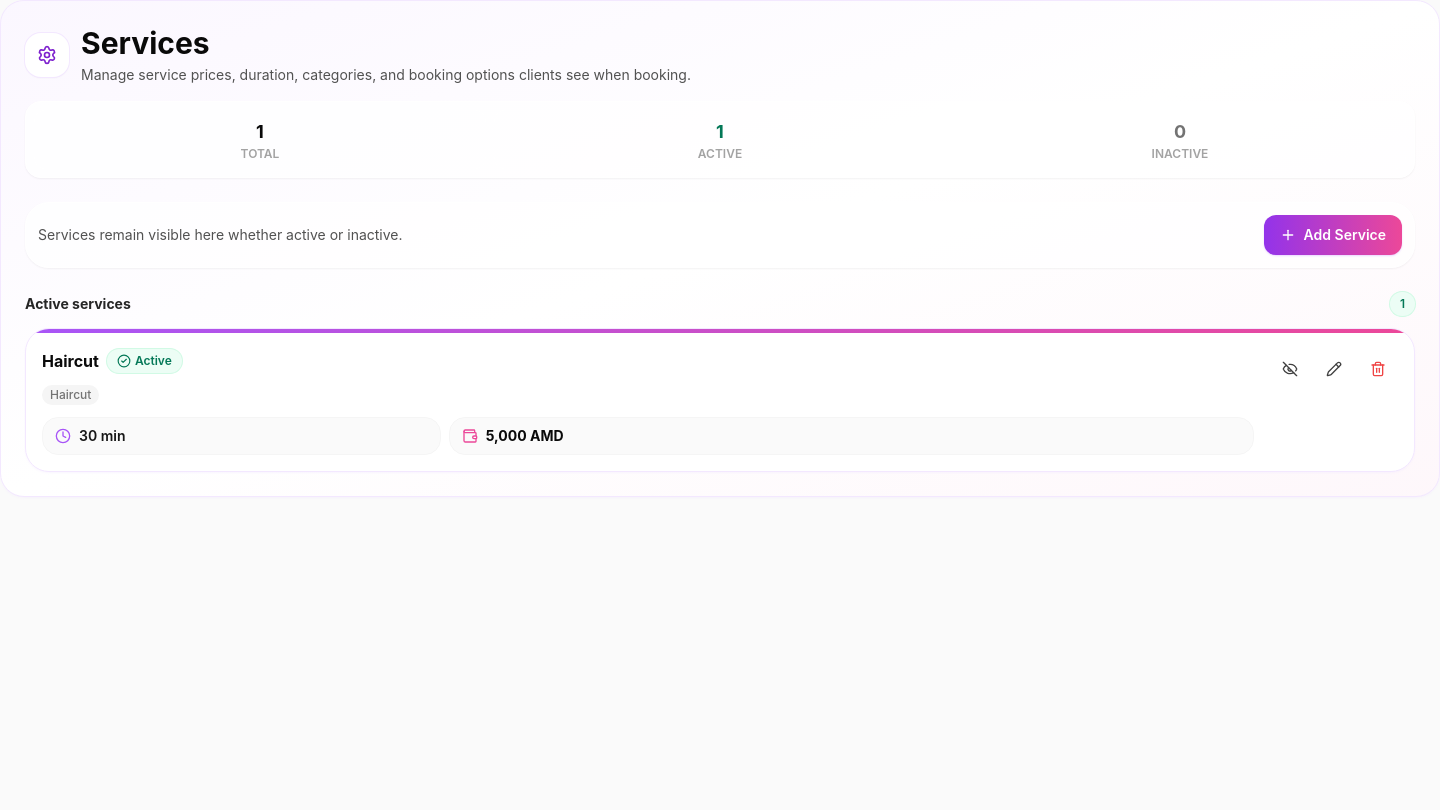
Test: ServicesManager › retains failed delete confirmation and removes the service only after a successful retry
Click the button titled "Delete": (1378, 369) left=1358, top=349, right=1398, bottom=389
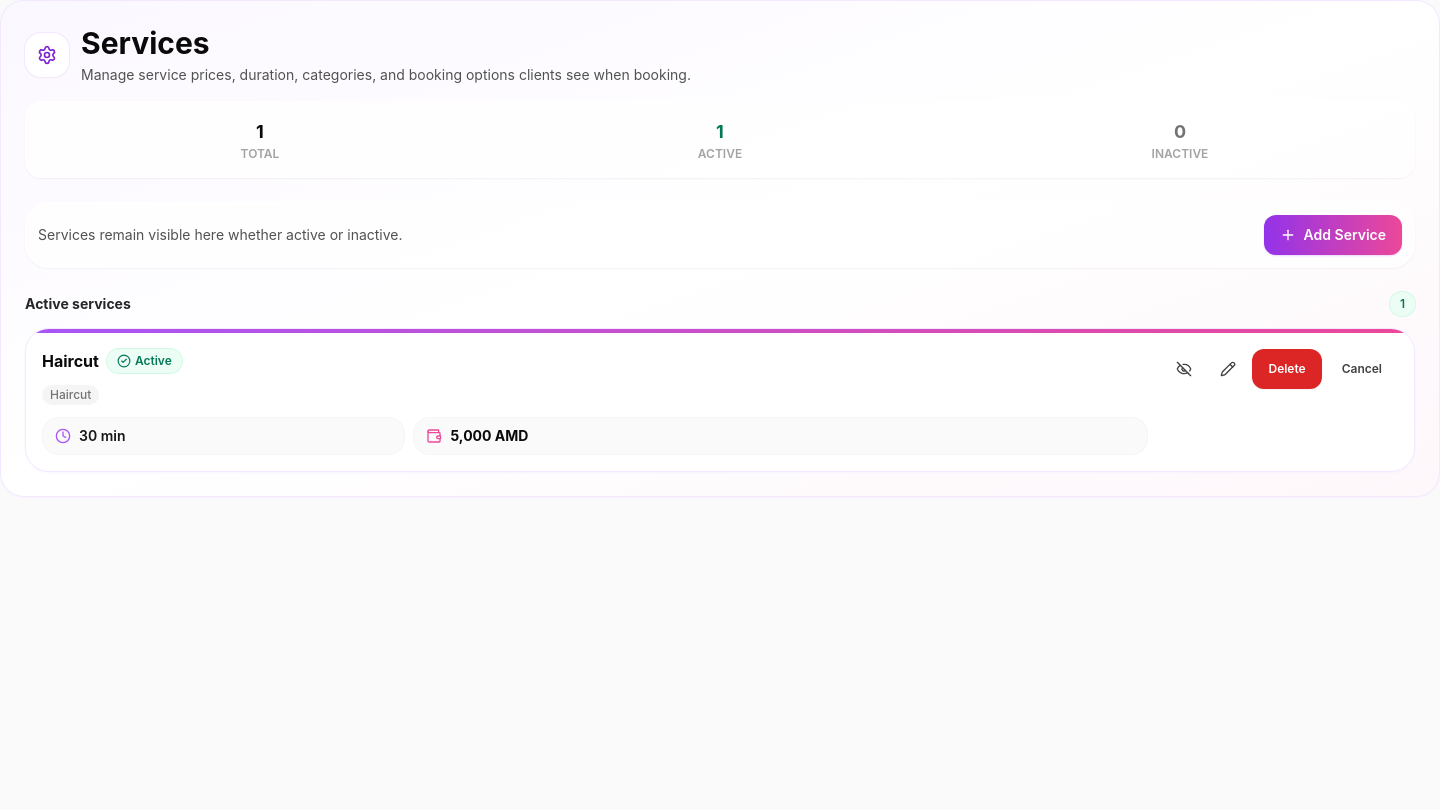
Click the button "Delete": (1287, 369) left=1252, top=349, right=1322, bottom=389
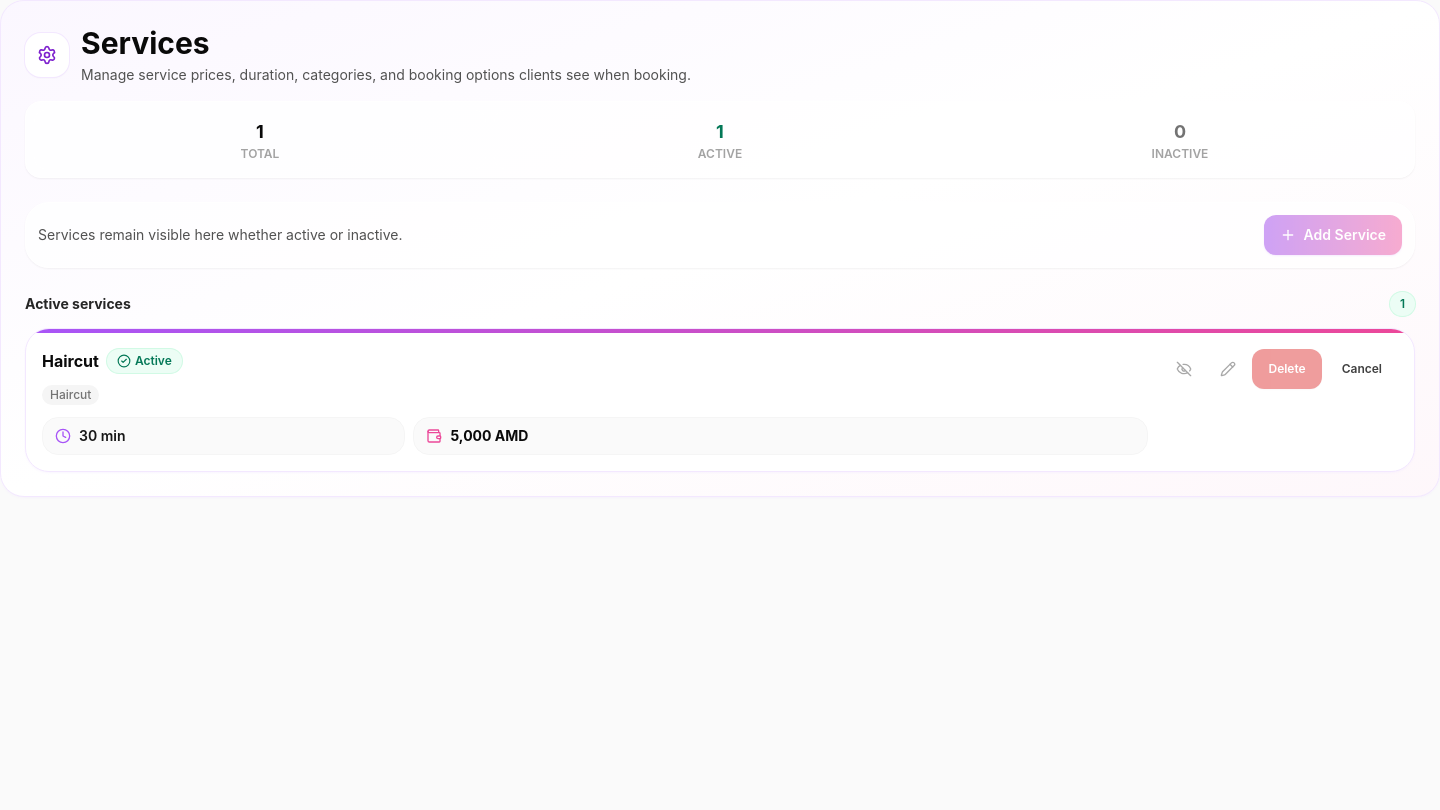
Click the button "Delete": (1287, 369) left=1252, top=349, right=1322, bottom=389
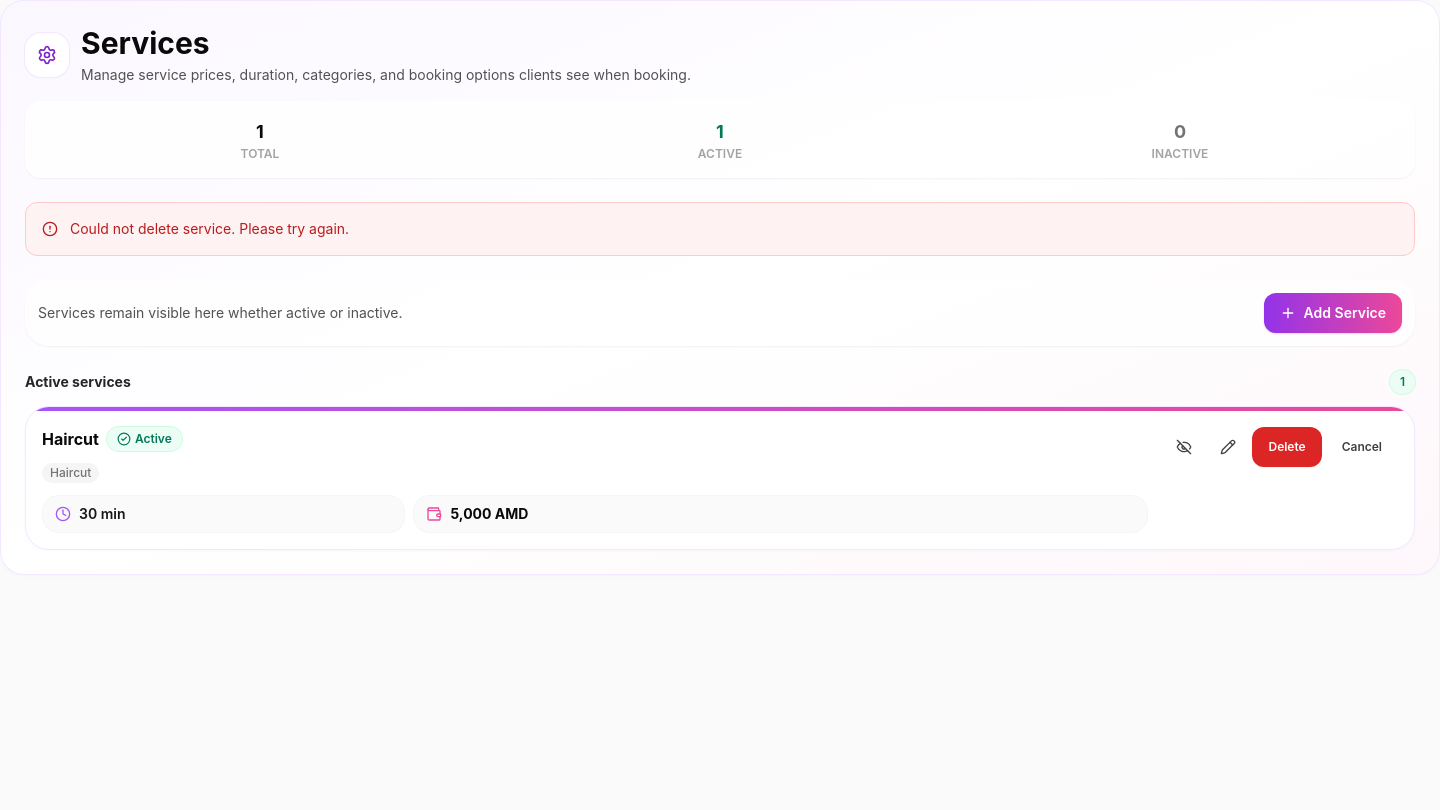
Now the text "Could not delete service. Please try again." is shown, box left=70, top=219, right=349, bottom=239
Now the button "Delete" is enabled
Now the button titled "Edit" is enabled, box left=1208, top=427, right=1248, bottom=467
Click the button "Delete": (1287, 447) left=1252, top=427, right=1322, bottom=467
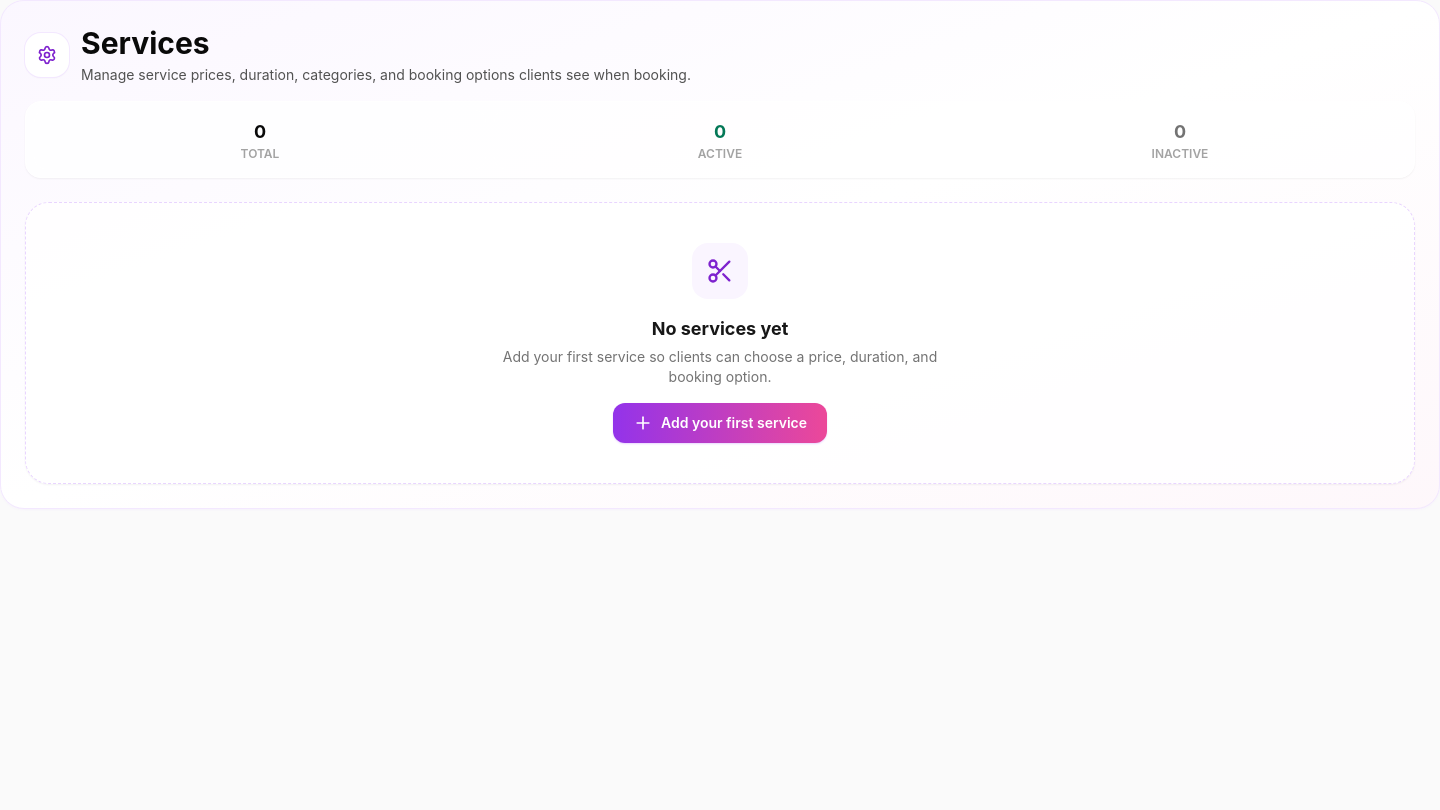
Now the heading "Haircut" is gone
Now the text "delete" is gone
